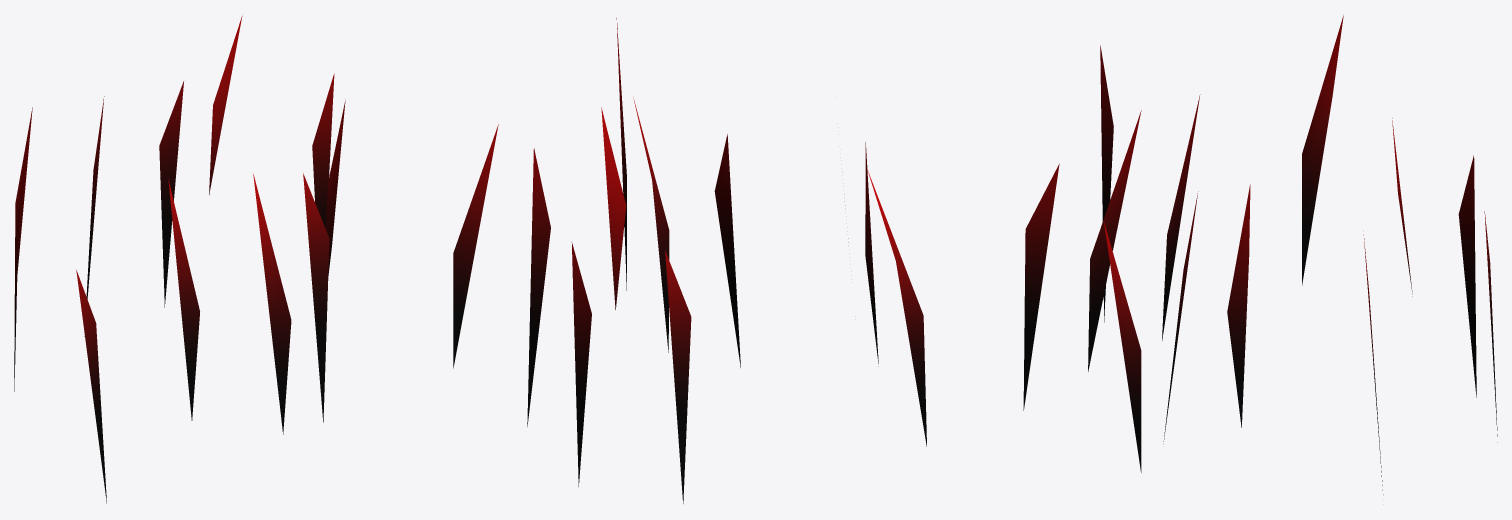
The model's file is Newgrass_10020001_01_Plain_LOD2.fbx.
3 renders of one model, left to right at view 1: azimuth 30°, elevation 25°; view 2: azimuth 150°, elevation 25°; view 3: azimuth 270°, elevation 25°, orthographic. The views are drawn at different scales.
Parts seen in each view (by area): view 1: Newgrass_10020001_01_Plain; view 2: Newgrass_10020001_01_Plain; view 3: Newgrass_10020001_01_Plain.
Boxes of the visible parts, bbox=[...] form: Newgrass_10020001_01_Plain: bbox=[14, 16, 498, 503]; Newgrass_10020001_01_Plain: bbox=[527, 18, 1059, 503]; Newgrass_10020001_01_Plain: bbox=[1088, 15, 1497, 494].
Size of the model in its own units: 122 by 90.38 by 95.51.
